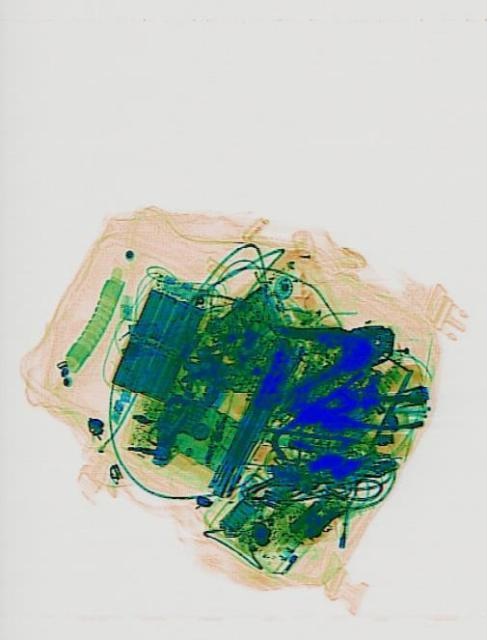Pliers: (268, 306, 397, 396)
